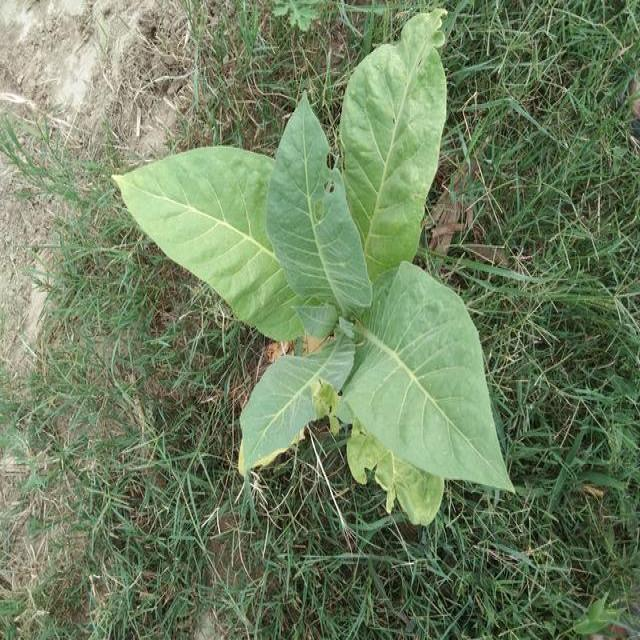crop: (112, 13, 526, 514)
